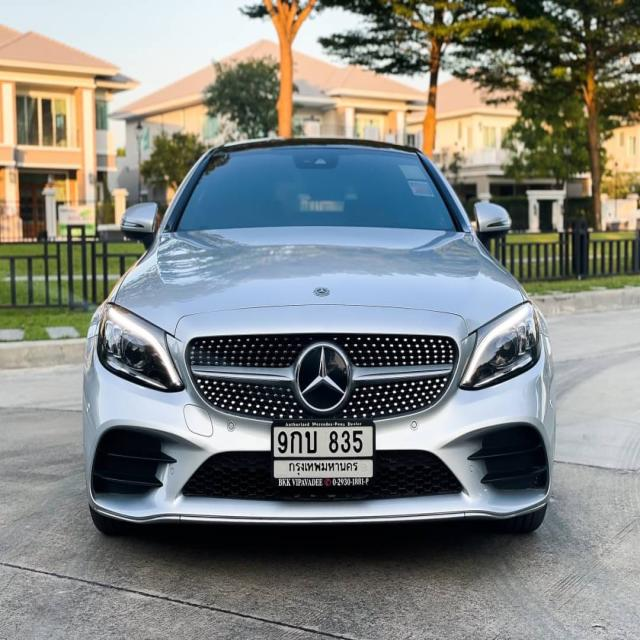license_plate: (270, 421, 377, 491)
